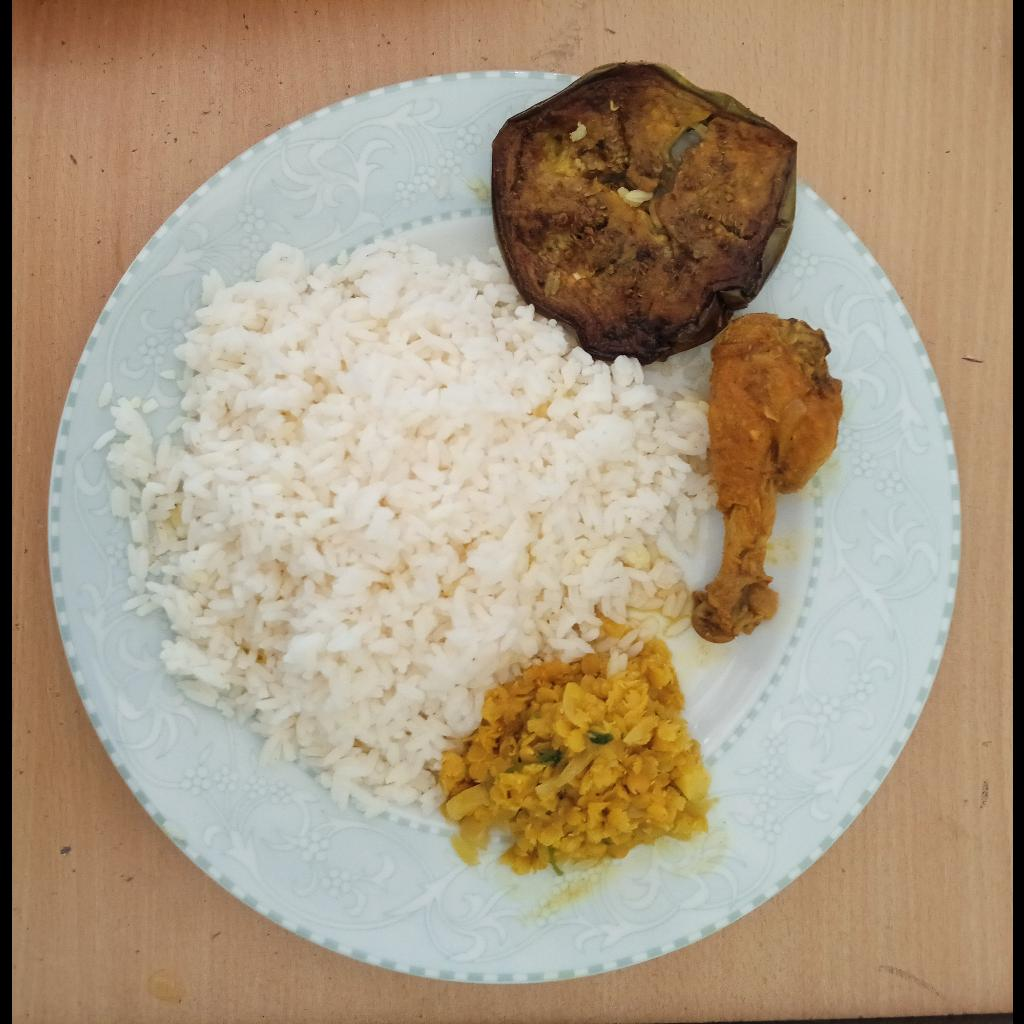begun-vaji: (490, 61, 797, 361)
chicken: (692, 315, 842, 644)
daal: (439, 644, 713, 877)
rice: (105, 240, 709, 812)
